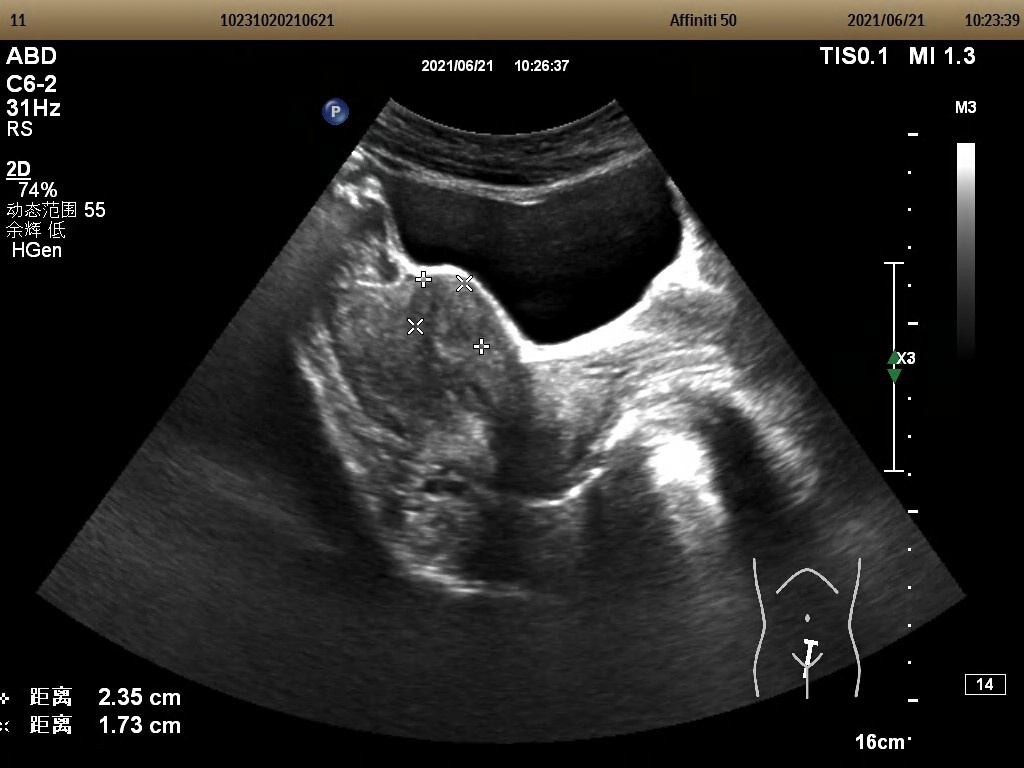肌瘤: (412, 274, 486, 349)
